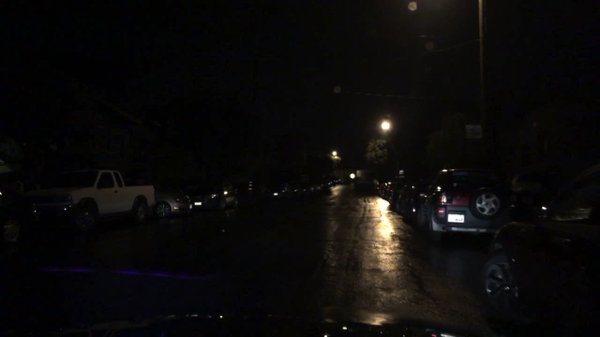car: (480, 161, 599, 337), (416, 167, 508, 246), (0, 160, 27, 245), (402, 178, 434, 222), (154, 186, 192, 217), (393, 181, 417, 214), (193, 189, 220, 212), (388, 181, 406, 209), (264, 182, 291, 197), (353, 179, 374, 195), (382, 181, 396, 198), (308, 179, 323, 192), (293, 183, 307, 193), (323, 178, 334, 188), (377, 182, 386, 194), (331, 175, 342, 184)
person: (506, 171, 531, 221), (218, 181, 242, 229)
traffic sign: (465, 124, 484, 140)
truck: (25, 169, 158, 231)
